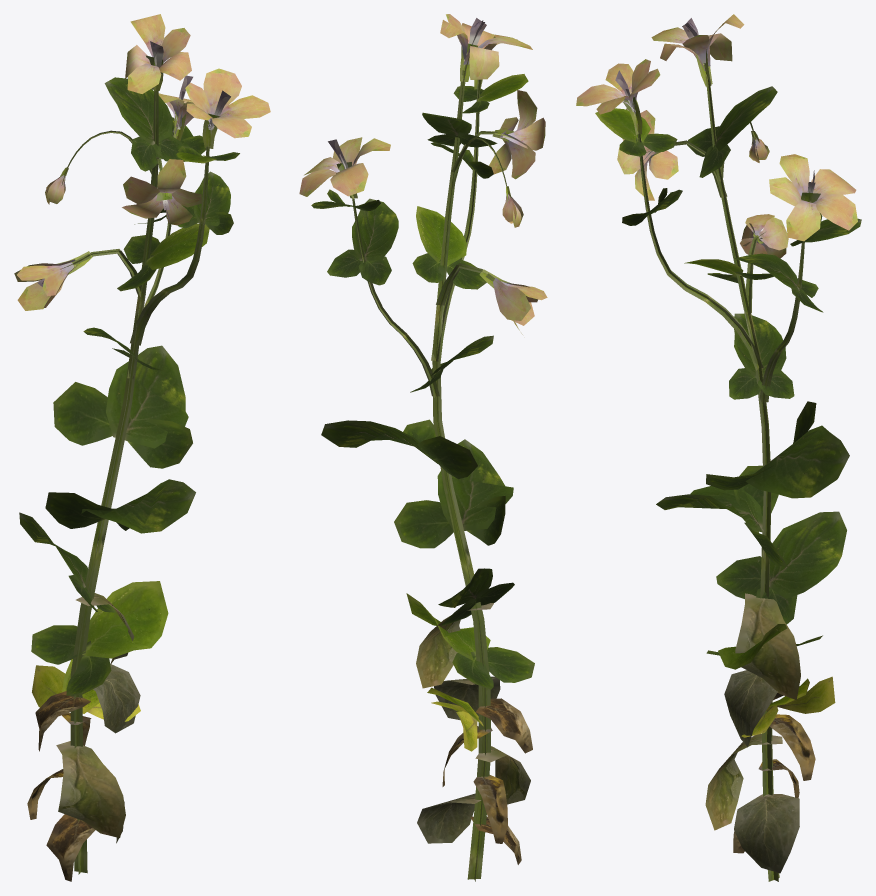
The model's file is Periwinkle_OG_normal_yellowgreen.glb.
3 renders of one model, left to right at view 1: azimuth 30°, elevation 25°; view 2: azimuth 150°, elevation 25°; view 3: azimuth 270°, elevation 25°, orthographic. The views are drawn at different scales.
Parts seen in each view (by area): view 1: _419c_Var3_LOD1; view 2: _419c_Var3_LOD1; view 3: _419c_Var3_LOD1.
Boxes of the visible parts, x1,y1,x2,y2 form: _419c_Var3_LOD1: [14, 14, 270, 881]; _419c_Var3_LOD1: [299, 14, 547, 881]; _419c_Var3_LOD1: [576, 14, 861, 881].
Size of the model in its own units: 0.6129 by 2.19 by 0.6394.
Materials: 1 (1 with a texture image).
